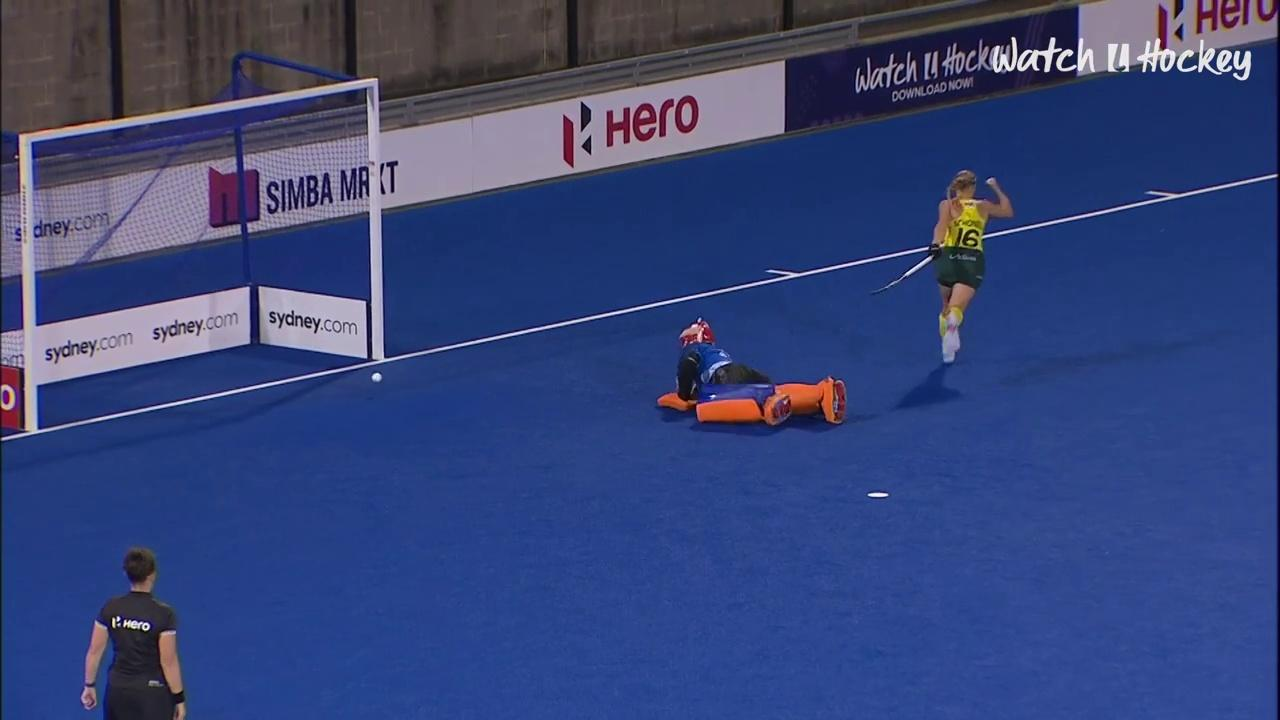ball: (360, 359, 389, 391)
